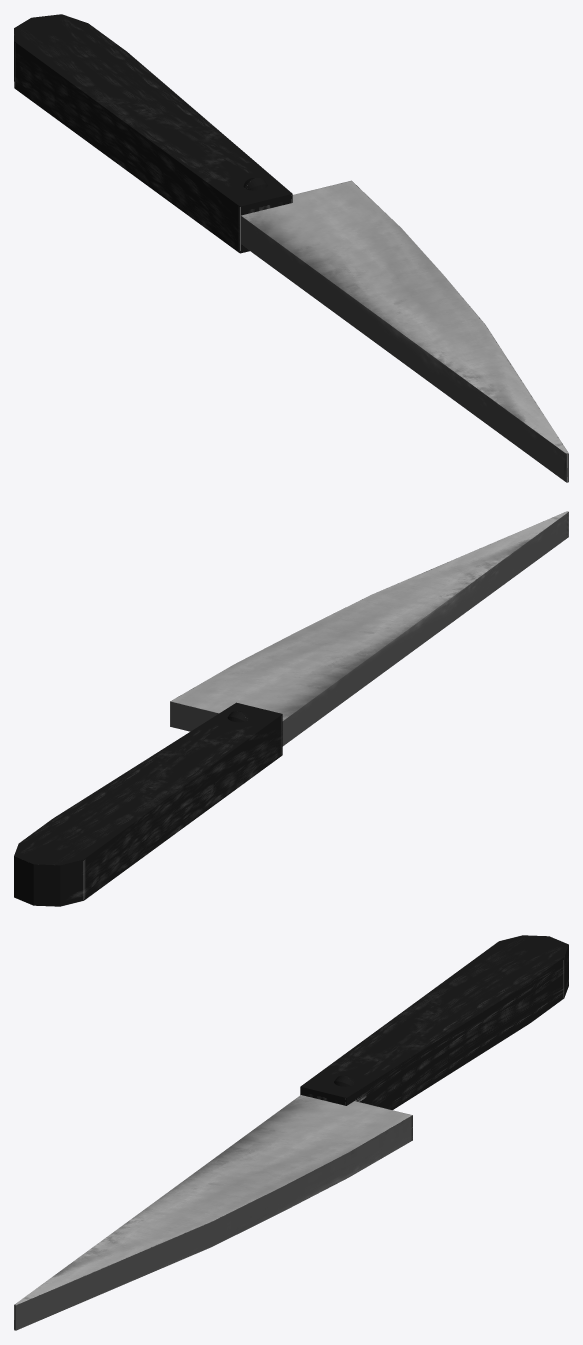
File: CUCHILLO 01.fbx
The picture shows the model from 3 angles, top to bottom: view 1: azimuth 30°, elevation 25°; view 2: azimuth 150°, elevation 25°; view 3: azimuth 330°, elevation 25°; orthographic projection. The views are drawn at different scales.
Visible parts, largest first — view 1: Cube, Cube.002; view 2: Cube, Cube.002; view 3: Cube, Cube.002.
Part boxes in pixels (<box>): Cube: <box>241,180,568,482</box>; Cube.002: <box>14,14,292,253</box>; Cube: <box>170,511,568,746</box>; Cube.002: <box>14,702,282,906</box>; Cube: <box>14,1095,412,1330</box>; Cube.002: <box>300,935,568,1109</box>.
Bounding box in the file's own units: 5.9 × 2.57 × 48.81.
Materials: 1 (1 with a texture image).
